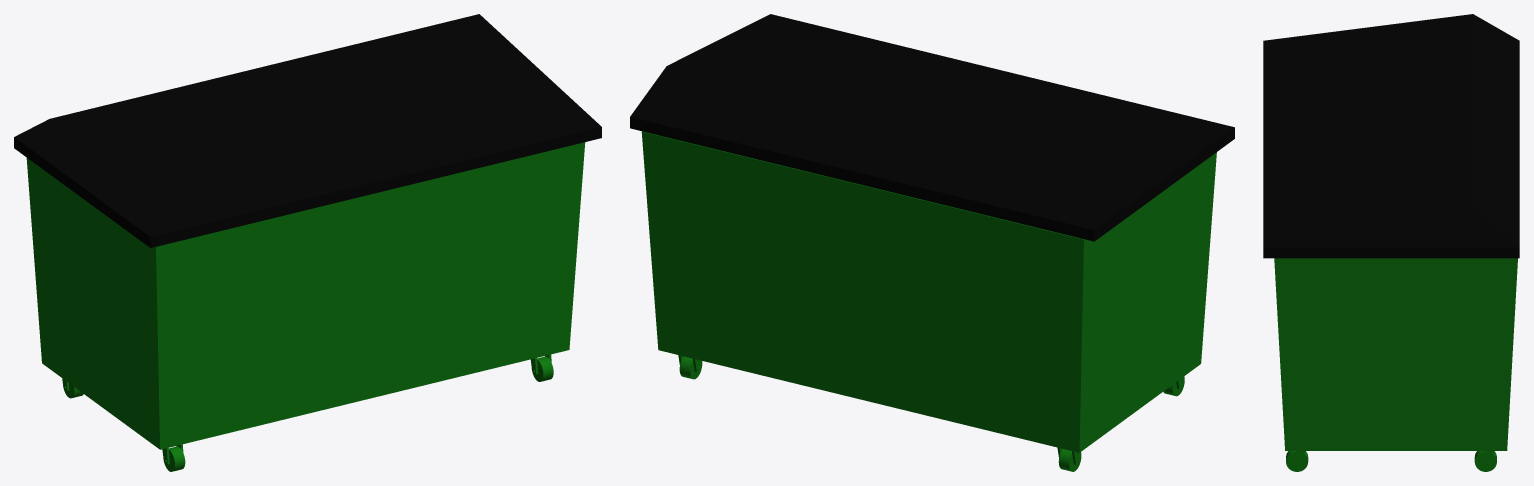
The model's file is roskis.fbx.
3 views of the same model, side by side, from view 1: azimuth 30°, elevation 25°; view 2: azimuth 150°, elevation 25°; view 3: azimuth 270°, elevation 25° (orthographic). The views are drawn at different scales.
Visible parts, largest first — view 1: Cube.001; view 2: Cube.001; view 3: Cube.001.
Part boxes in pixels (x1,y1,x2,y2): Cube.001: (14,14,601,471); Cube.001: (630,14,1234,471); Cube.001: (1263,14,1519,471).
Size of the model in its own units: 441 by 271 by 231.
